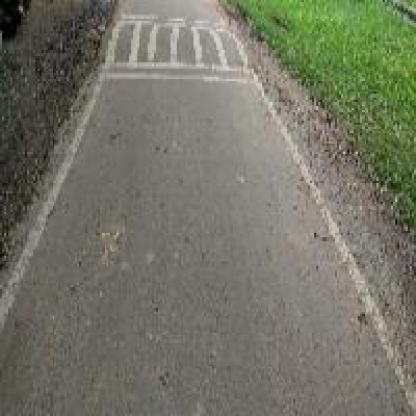Speed Bump: (100, 12, 239, 75)
